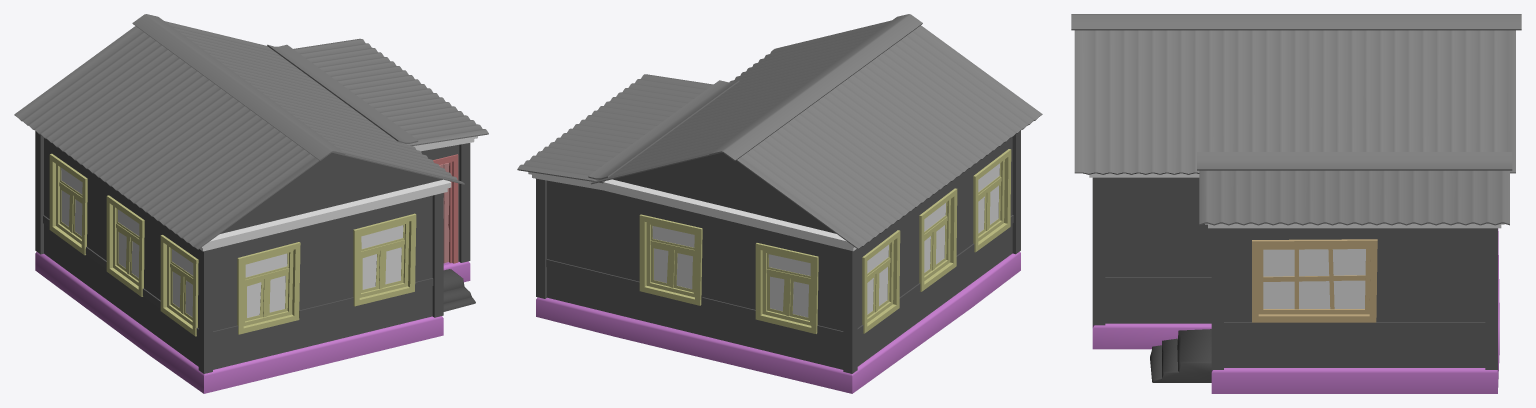
File: Home.fbx
3 renders of one model, left to right at view 1: azimuth 30°, elevation 25°; view 2: azimuth 150°, elevation 25°; view 3: azimuth 270°, elevation 25°, orthographic. The views are drawn at different scales.
Visible parts, largest first — view 1: Plane001, Box001, Object, Object010, Object009, Shape002, Object013, Object012, Object011, Object003, Box003, Box002; view 2: Plane001, Box001, Object, Object014, Object015, Shape002, Object012, Object011, Object013; view 3: Plane001, Box001, Object007, Object, Box003, Shape002.
Boxes of the visible parts, bbox=[...] form: Plane001: bbox=[14, 14, 488, 249]; Box001: bbox=[35, 131, 470, 373]; Object: bbox=[35, 252, 470, 393]; Object010: bbox=[237, 242, 300, 334]; Object009: bbox=[353, 213, 416, 306]; Shape002: bbox=[200, 136, 477, 251]; Object013: bbox=[49, 153, 87, 255]; Object012: bbox=[106, 195, 144, 296]; Object011: bbox=[160, 235, 198, 336]; Object003: bbox=[433, 154, 458, 263]; Box003: bbox=[443, 269, 475, 311]; Box002: bbox=[439, 163, 449, 263]; Plane001: bbox=[517, 14, 1042, 249]; Box001: bbox=[536, 130, 1020, 373]; Object: bbox=[536, 251, 1020, 393]; Object014: bbox=[755, 243, 818, 333]; Object015: bbox=[639, 214, 702, 305]; Shape002: bbox=[528, 172, 856, 251]; Object012: bbox=[919, 188, 957, 291]; Object011: bbox=[973, 149, 1011, 252]; Object013: bbox=[862, 230, 900, 333]; Plane001: bbox=[1071, 14, 1521, 225]; Box001: bbox=[1092, 177, 1497, 369]; Object007: bbox=[1252, 239, 1377, 322]; Object: bbox=[1092, 228, 1499, 393]; Box003: bbox=[1150, 329, 1211, 382]; Shape002: bbox=[1089, 173, 1504, 228].
Size of the model in its own units: 722 by 442 by 683.
